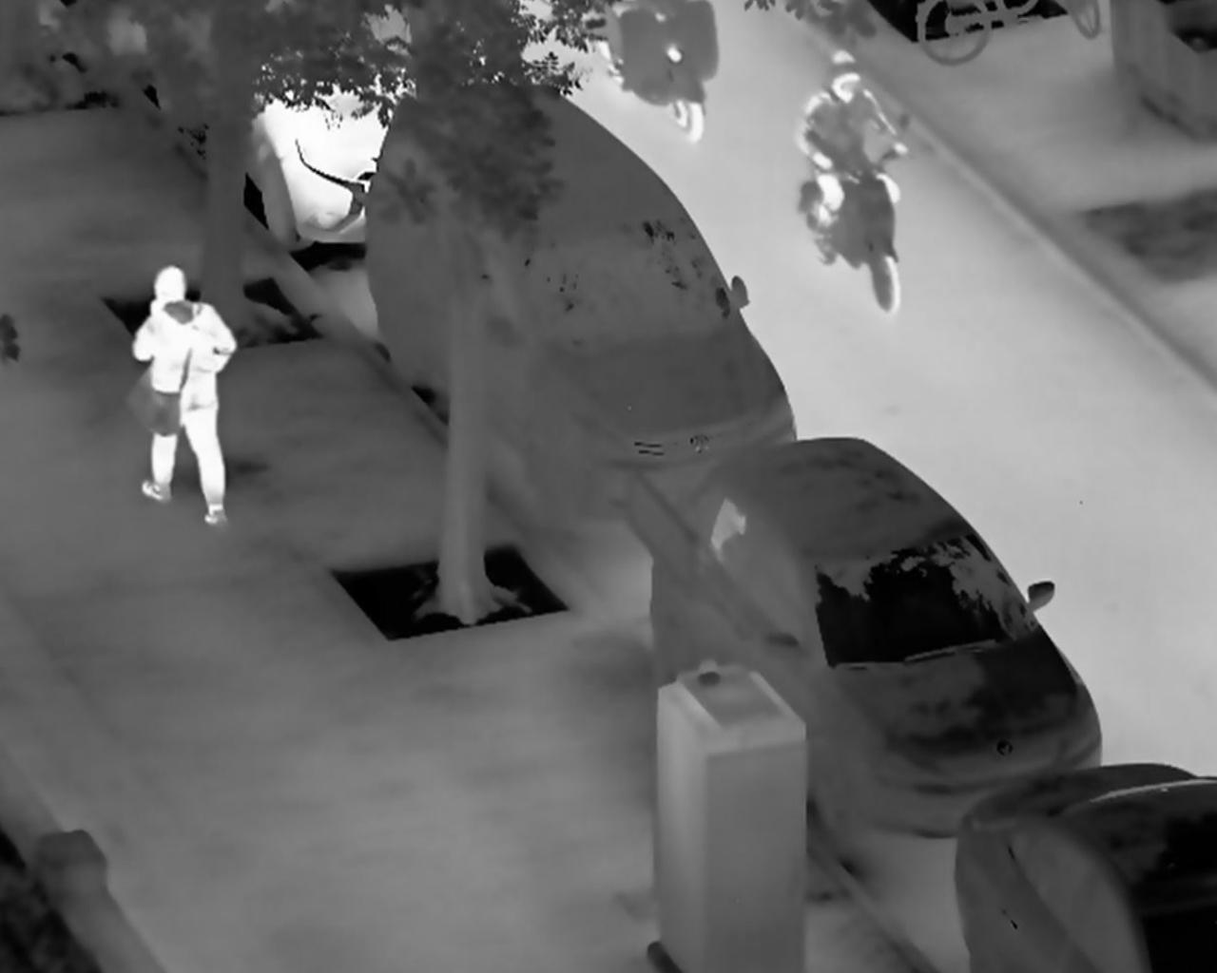person: (127, 262, 237, 530), (795, 45, 909, 234)
